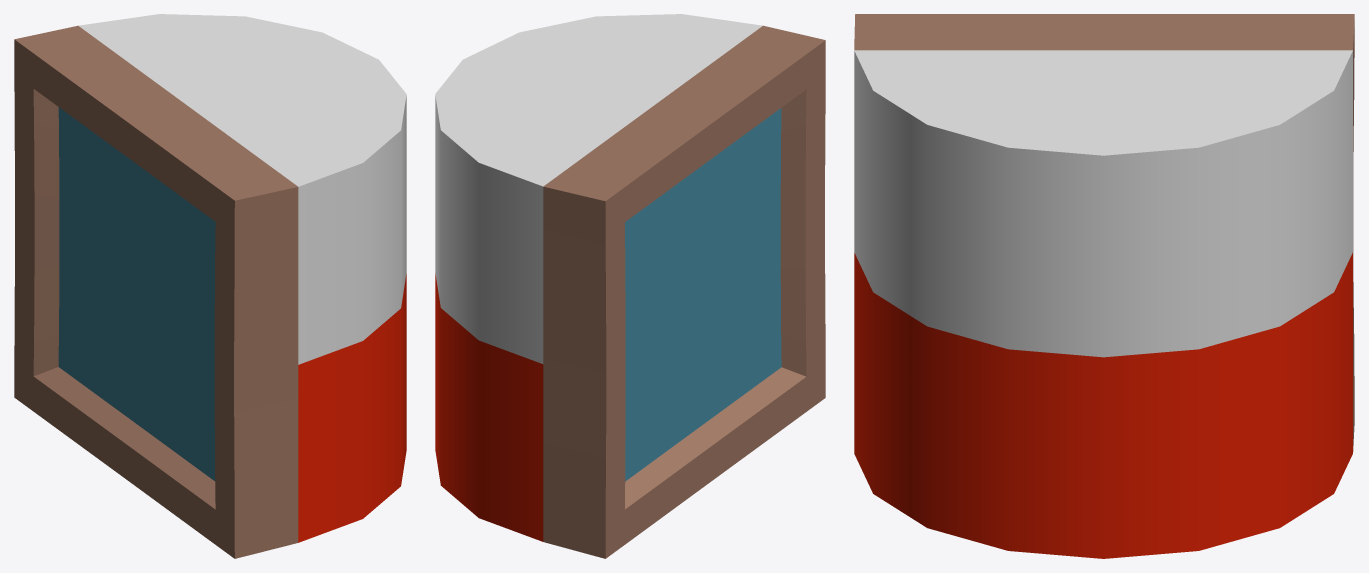
The model's file is Frame_Can.fbx.
3 views of the same model, side by side, from view 1: azimuth 30°, elevation 25°; view 2: azimuth 150°, elevation 25°; view 3: azimuth 270°, elevation 25° (orthographic). The views are drawn at different scales.
Parts seen in each view (by area): view 1: Frame_Can; view 2: Frame_Can; view 3: Frame_Can.
Part boxes in pixels (left/top/right/bottom): Frame_Can: left=14, top=14, right=406, bottom=558; Frame_Can: left=435, top=14, right=825, bottom=558; Frame_Can: left=854, top=14, right=1354, bottom=558.
Bounding box in the file's own units: 53.39 × 71.99 × 80.49.
